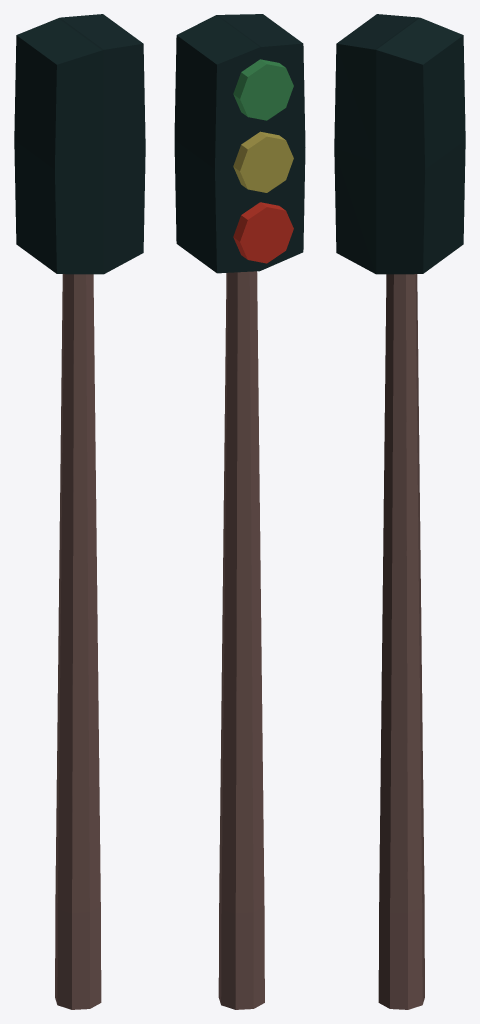
Rendered from simplified.glb.
The picture shows the model from 3 angles, left to right: view 1: azimuth 30°, elevation 25°; view 2: azimuth 210°, elevation 25°; view 3: azimuth 330°, elevation 25°; orthographic projection.
Parts seen in each view (by area): view 1: Node; view 2: Node; view 3: Node.
Part boxes in pixels (bbox=[...]): Node: bbox=[14, 14, 145, 1009]; Node: bbox=[174, 14, 305, 1009]; Node: bbox=[334, 14, 465, 1009].
Bounding box in the file's own units: 44.11 × 450 × 42.8.
Materials: 1 (1 with a texture image).
